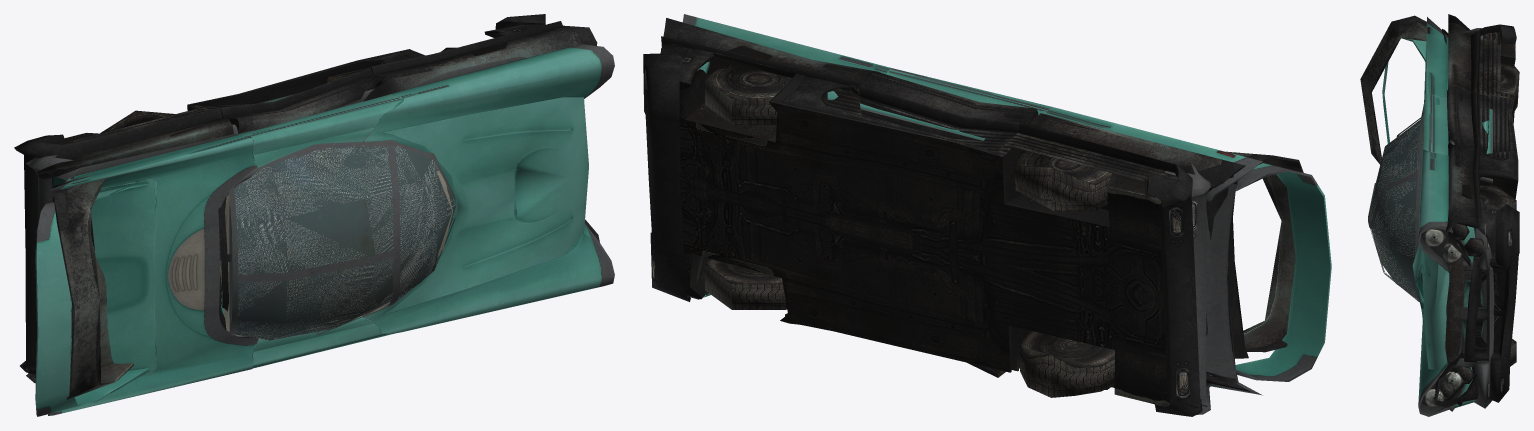
File: veh_t6_nuketown_2020_car01_whole_LOD3.obj
The picture shows the model from 3 angles, left to right: view 1: azimuth 30°, elevation 25°; view 2: azimuth 150°, elevation 25°; view 3: azimuth 270°, elevation 25°; orthographic projection. The views are drawn at different scales.
Visible parts, largest first — view 1: mtl_nt_2020_car_01_exterior, mtl_nt_2020_car_01_glass_out, mtl_nt_2020_car_01_exterior_d, mtl_veh_t6_shattered_glass_in, mtl_nt_2020_car_01_interior, mtl_nt_2020_car_01_tire_d; view 2: mtl_nt_2020_car_01_exterior_d, mtl_nt_2020_car_01_exterior, mtl_nt_2020_car_01_tire_d, mtl_nt_2020_car_01_tire; view 3: mtl_nt_2020_car_01_exterior_d, mtl_nt_2020_car_01_exterior, mtl_nt_2020_car_01_glass_out, mtl_veh_t6_shattered_glass_in, mtl_nt_2020_car_01_tire_d, mtl_nt_2020_car_01_interior_d, mtl_nt_2020_car_01_tire.
Part boxes in pixels (x1=…): mtl_nt_2020_car_01_exterior: x1=26, y1=44, x2=614, y2=416; mtl_nt_2020_car_01_glass_out: x1=229, y1=143, x2=456, y2=340; mtl_nt_2020_car_01_exterior_d: x1=14, y1=14, x2=599, y2=399; mtl_veh_t6_shattered_glass_in: x1=235, y1=146, x2=454, y2=339; mtl_nt_2020_car_01_interior: x1=107, y1=130, x2=452, y2=372; mtl_nt_2020_car_01_tire_d: x1=100, y1=47, x2=456, y2=133; mtl_nt_2020_car_01_exterior_d: x1=643, y1=18, x2=1303, y2=416; mtl_nt_2020_car_01_exterior: x1=661, y1=14, x2=1331, y2=414; mtl_nt_2020_car_01_tire_d: x1=705, y1=66, x2=1207, y2=397; mtl_nt_2020_car_01_tire: x1=705, y1=79, x2=1113, y2=389; mtl_nt_2020_car_01_exterior_d: x1=1360, y1=14, x2=1519, y2=407; mtl_nt_2020_car_01_exterior: x1=1368, y1=17, x2=1494, y2=416; mtl_nt_2020_car_01_glass_out: x1=1368, y1=120, x2=1422, y2=298; mtl_veh_t6_shattered_glass_in: x1=1370, y1=124, x2=1422, y2=295; mtl_nt_2020_car_01_tire_d: x1=1479, y1=63, x2=1519, y2=345; mtl_nt_2020_car_01_interior_d: x1=1444, y1=30, x2=1511, y2=353; mtl_nt_2020_car_01_tire: x1=1510, y1=201, x2=1516, y2=366.
Size of the model in its own units: 538 by 213 by 156.
